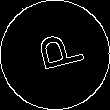P_W: (26, 30, 84, 80)
